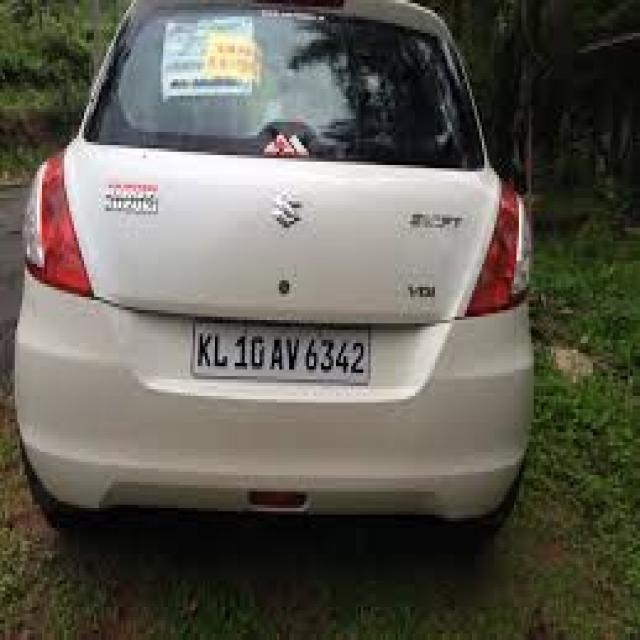Number-Plate: (193, 317, 369, 382)
